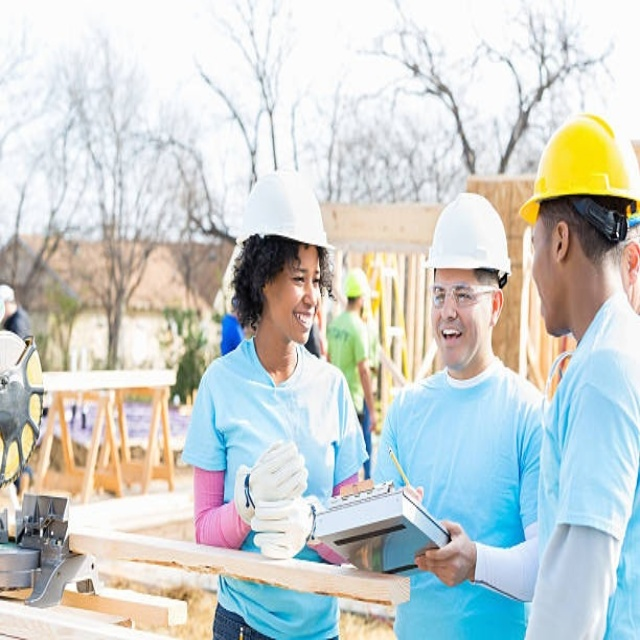Gafas: (429, 278, 501, 307)
Guantes: (240, 440, 308, 515), (252, 496, 316, 560)
Sin_gafas: (285, 262, 323, 292), (529, 220, 564, 249)
Sin_guantes: (411, 515, 477, 591)
Sin_mascara: (530, 273, 565, 333), (283, 309, 314, 347), (436, 320, 465, 358)
